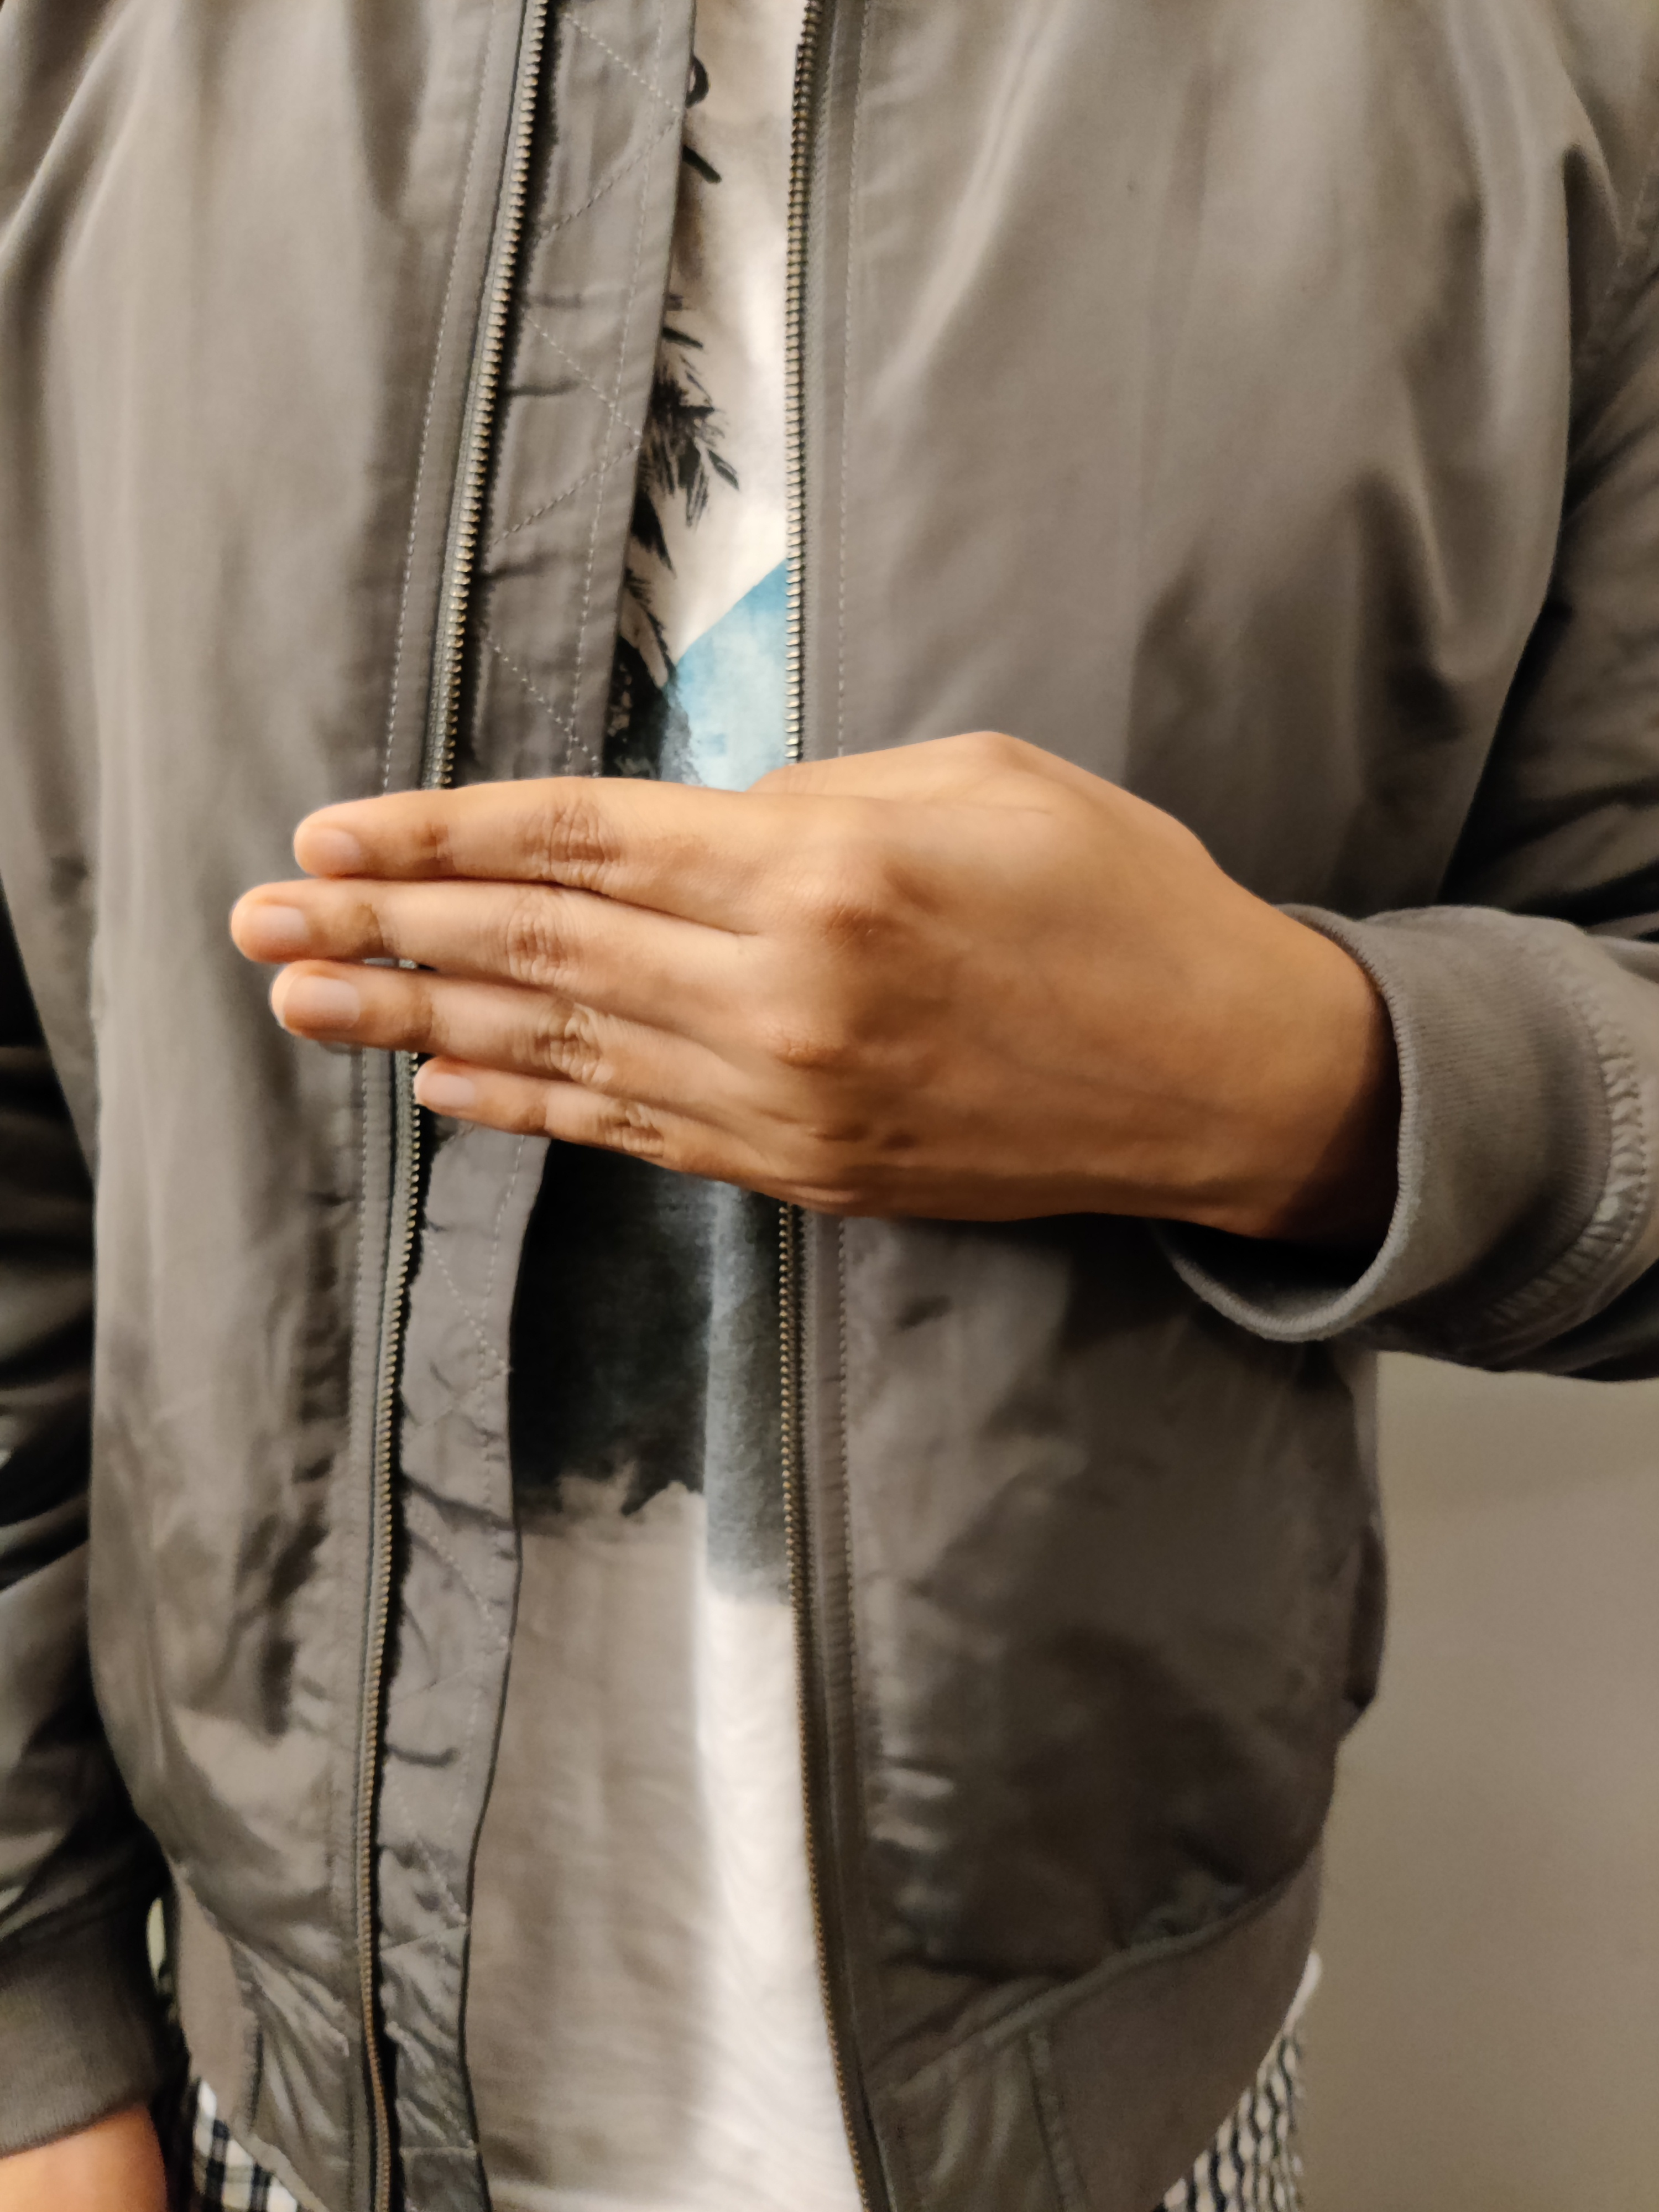right: (120, 542, 1551, 1486)
